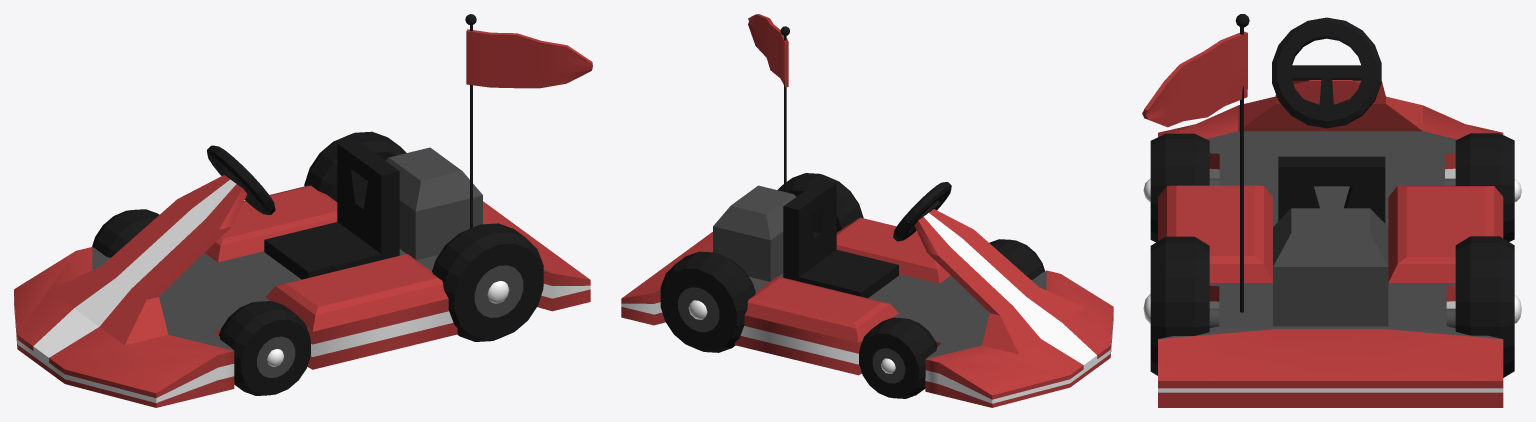
Rendered from red-kart.glb.
3 views of the same model, side by side, from view 1: azimuth 30°, elevation 25°; view 2: azimuth 150°, elevation 25°; view 3: azimuth 270°, elevation 25° (orthographic). The views are drawn at different scales.
Parts seen in each view (by area): view 1: Box001; view 2: Box001; view 3: Box001.
Boxes of the visible parts, x1,y1,x2,y2 form: Box001: (14, 14, 592, 407); Box001: (621, 14, 1113, 407); Box001: (1142, 14, 1521, 407).
Bounding box in the file's own units: 72.53 × 43.6 × 41.04.
